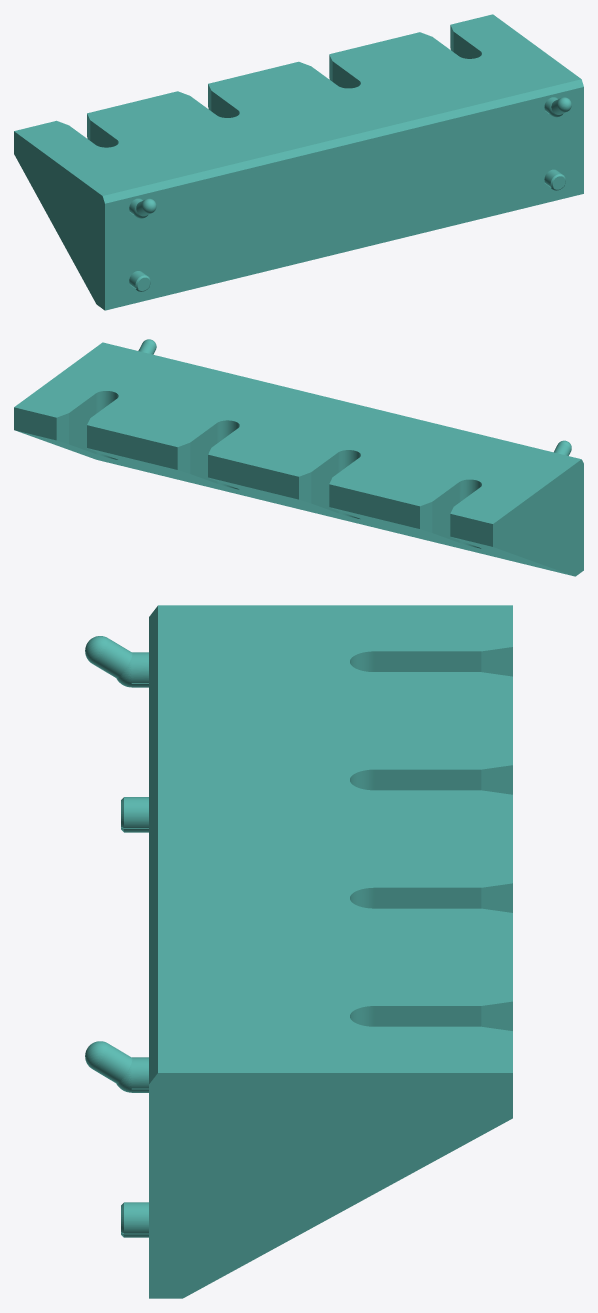
The model's file is part-sd03-inverted-d__v1__installed.glb.
The picture shows the model from 3 angles, top to bottom: view 1: azimuth 30°, elevation 25°; view 2: azimuth 150°, elevation 25°; view 3: azimuth 270°, elevation 25°; orthographic projection. The views are drawn at different scales.
Visible parts, largest first — view 1: Actual holder mesh; view 2: Actual holder mesh; view 3: Actual holder mesh.
Boxes of the visible parts, bbox=[...] form: Actual holder mesh: bbox=[14, 14, 583, 310]; Actual holder mesh: bbox=[14, 339, 583, 576]; Actual holder mesh: bbox=[85, 605, 512, 1298].
Size of the model in its own units: 0.1758 by 0.0396 by 0.068.
